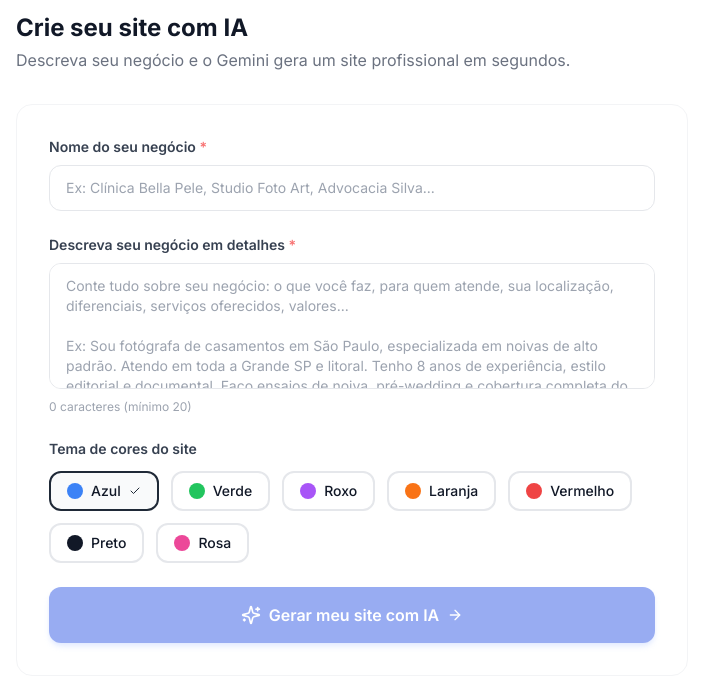
Scenario: CreateSitePage › habilita o botão gerar quando campos estão preenchidos
Step 1. Type "Meu Negócio" into the field with placeholder "Ex: Clínica Bella Pele, Studio Foto Art, Advocacia Silva..." → (352, 188), box left=49, top=165, right=655, bottom=211
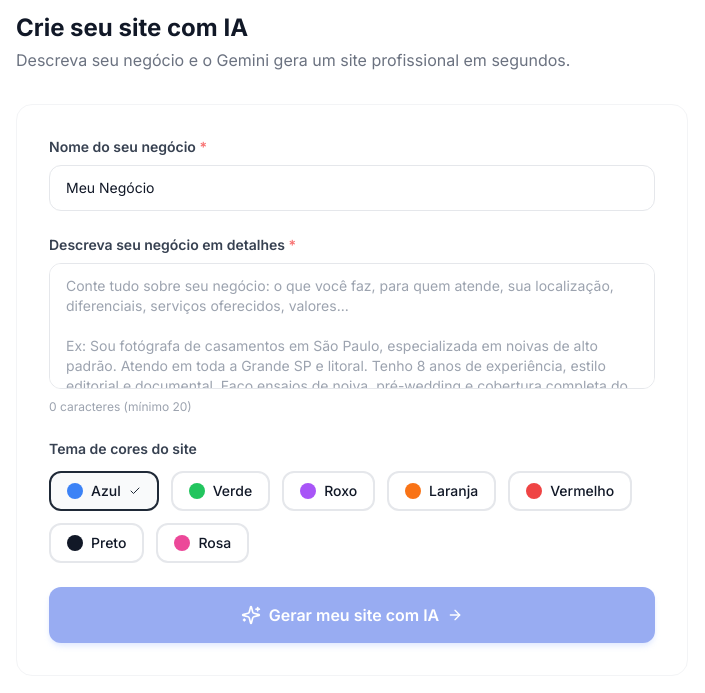
Step 2. Replace the text in the text box with placeholder "Sou fotógrafa" with "Descrição bem detalhada do meu negócio aqui mesmo" → (352, 326), box left=49, top=263, right=655, bottom=389
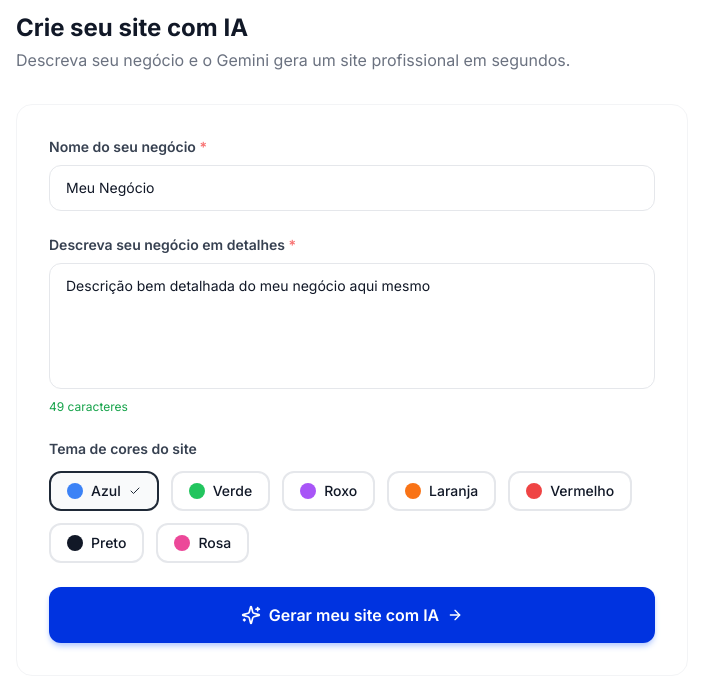
Check: the button "Gerar meu site com IA" is enabled, box left=49, top=587, right=655, bottom=643
